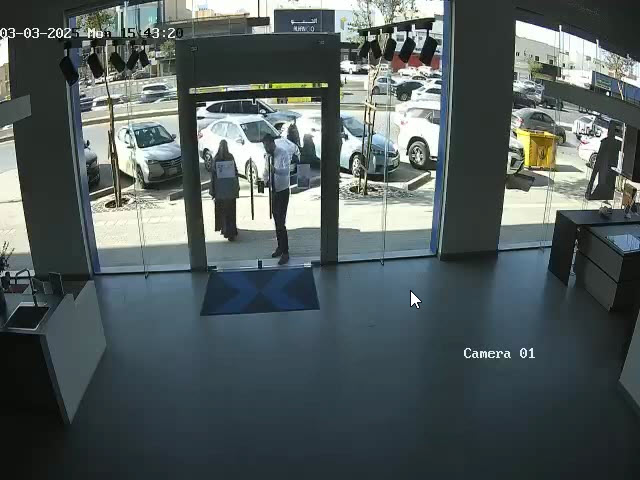employee: (262, 121, 301, 265)
female: (208, 139, 240, 241)
